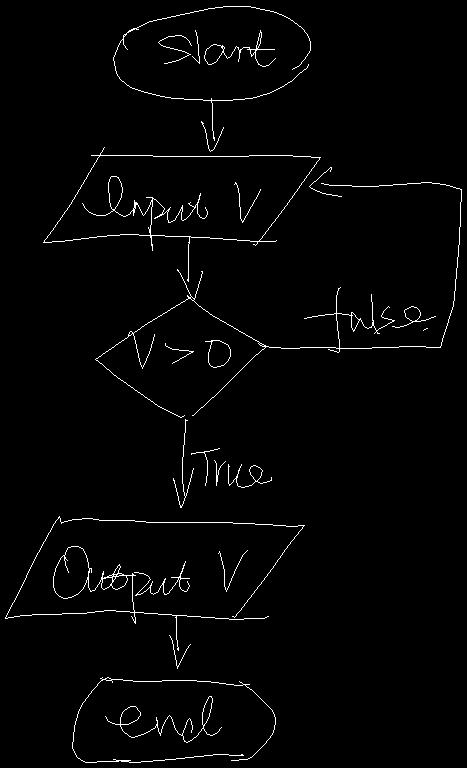arrow: (258, 167, 461, 348), (173, 419, 193, 507), (177, 236, 202, 299), (201, 98, 223, 151), (169, 616, 190, 668)
data: (5, 516, 304, 619), (43, 147, 320, 245)
decision: (95, 295, 266, 417)
terminator: (113, 6, 310, 100), (72, 677, 275, 762)
text: (53, 546, 247, 623), (82, 176, 260, 250), (304, 287, 435, 352), (105, 696, 221, 742), (158, 30, 275, 66), (128, 331, 230, 368), (191, 448, 271, 487)
